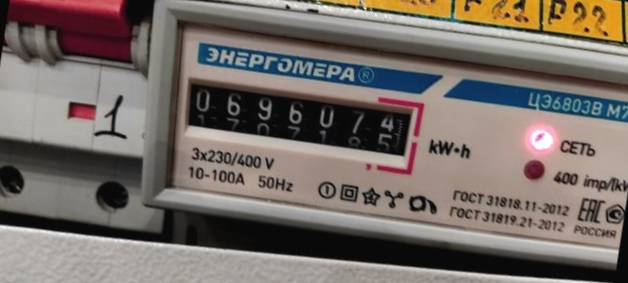0: (191, 84, 213, 112), (316, 100, 336, 129)
4: (378, 109, 395, 132)
5: (375, 131, 392, 151)
6: (285, 96, 305, 125), (222, 88, 243, 115)
7: (346, 106, 366, 134)
9: (253, 93, 274, 121)
screen: (172, 62, 427, 176)
